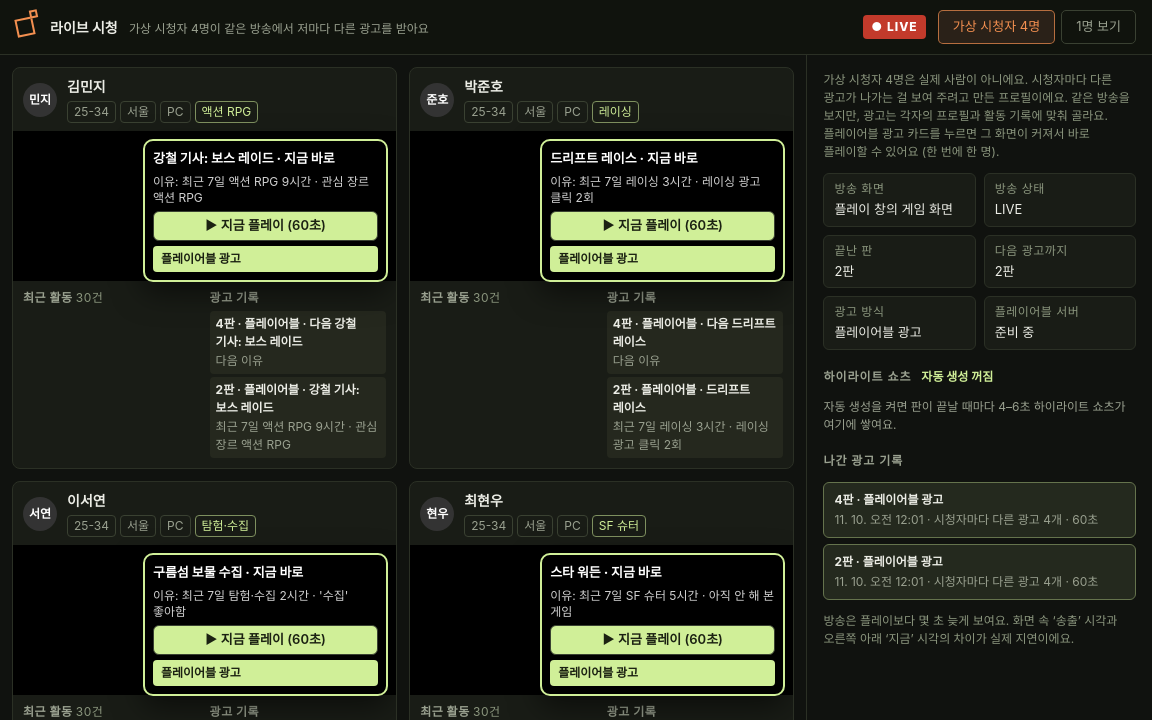
Test: a click expands that tile to play; one game at a time per page › a card in line keeps the game it was clicked for through the next cue (round 14 run 2)
Later steps or results of the test are not shown.
Click the button "▶ 지금 플레이 (60초)" below "이유: 최근 7일 액션 RPG 9시간 · 관심 장르 액션 RPG".
click(266, 226)  # box [153,211,378,241]
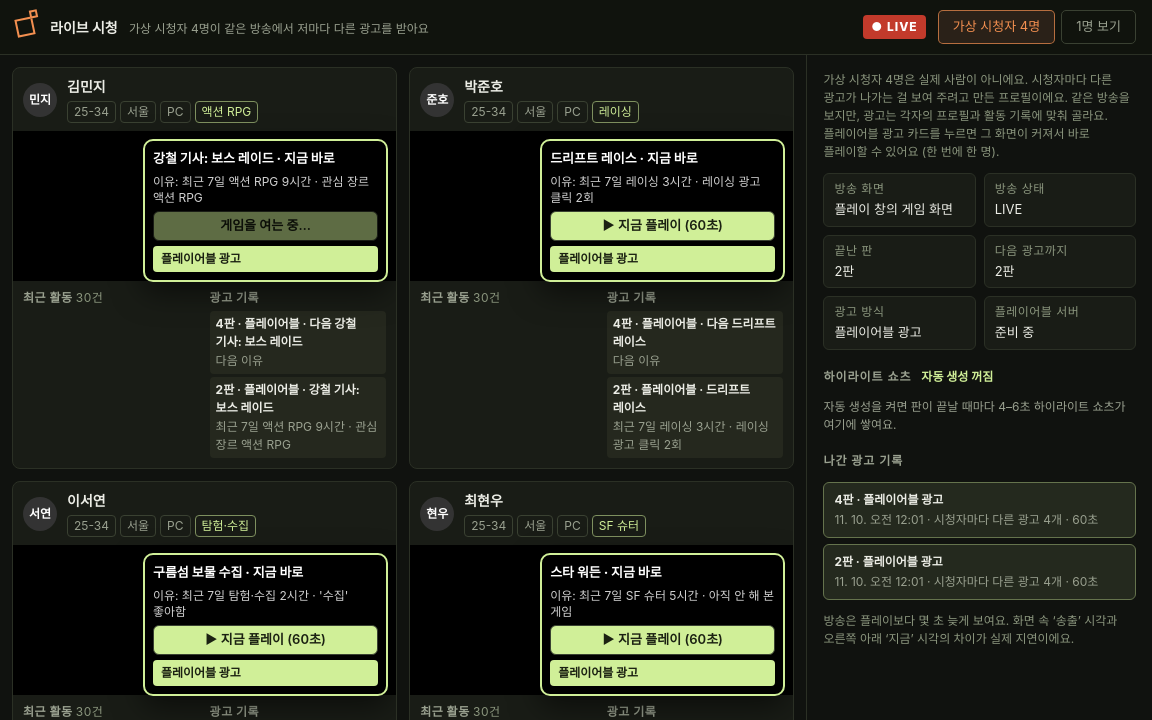
Click the button "▶ 지금 플레이 (60초)" below "이유: 최근 7일 탐험·수집 2시간 · '수집' 좋아함".
click(266, 640)  # box [153,625,378,655]
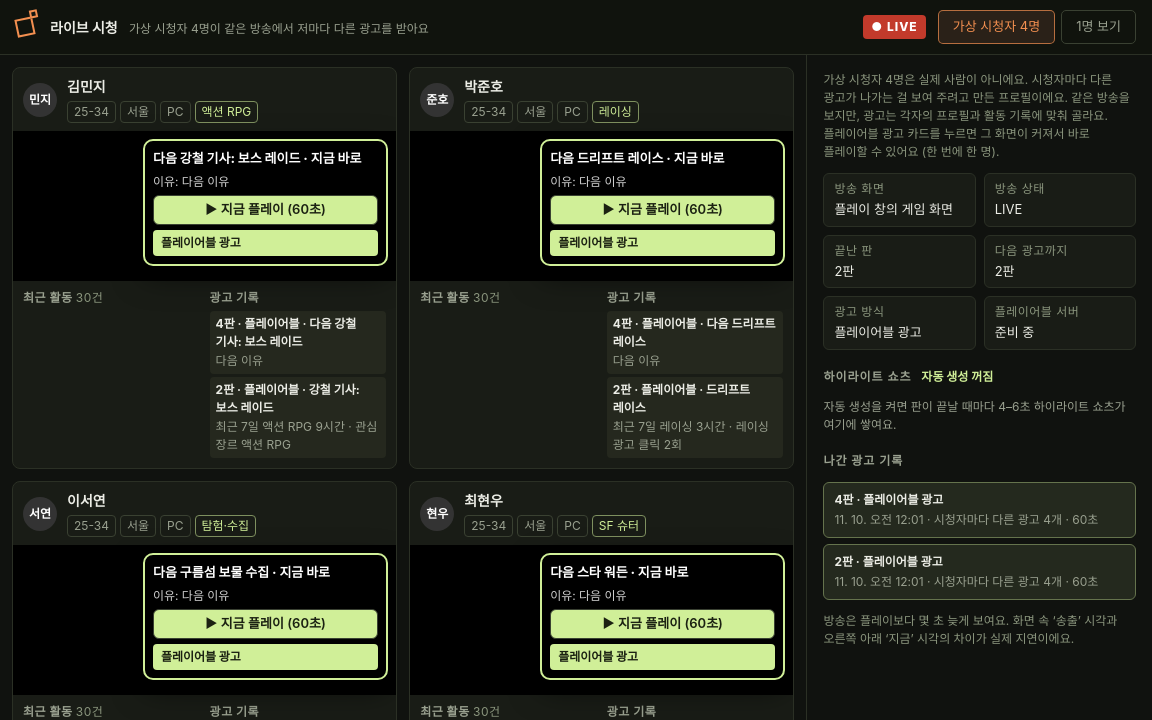
Check: the text with class "hl-overlay-title" reads "다음 드리프트 레이스 · 지금 바로", box [550,150,724,166]
Check: the text with class "hl-overlay-title" reads "다음 구름섬 보물 수집 · 지금 바로", box [153,564,330,580]
